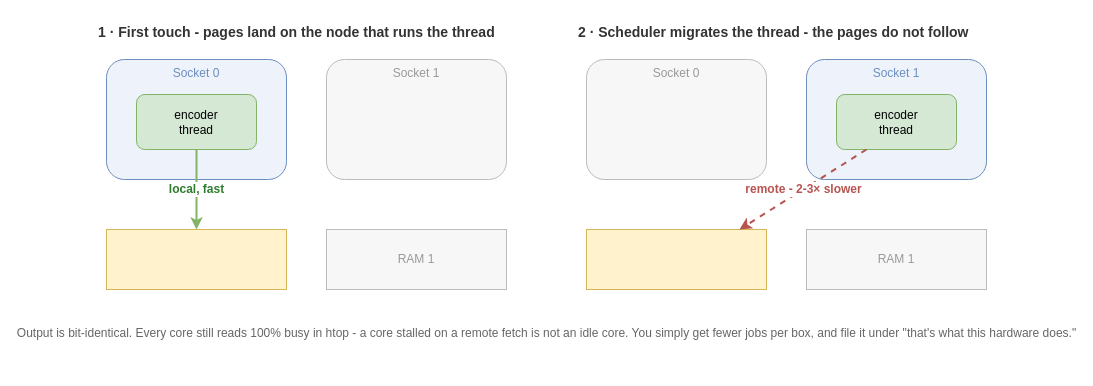
This 1093x386 diagram has some shape labels left out. Each missing label, with the box of its shape:
RAM 0 pages allocated here: (106, 228, 286, 290)
RAM 0 pages still here: (586, 228, 766, 290)
